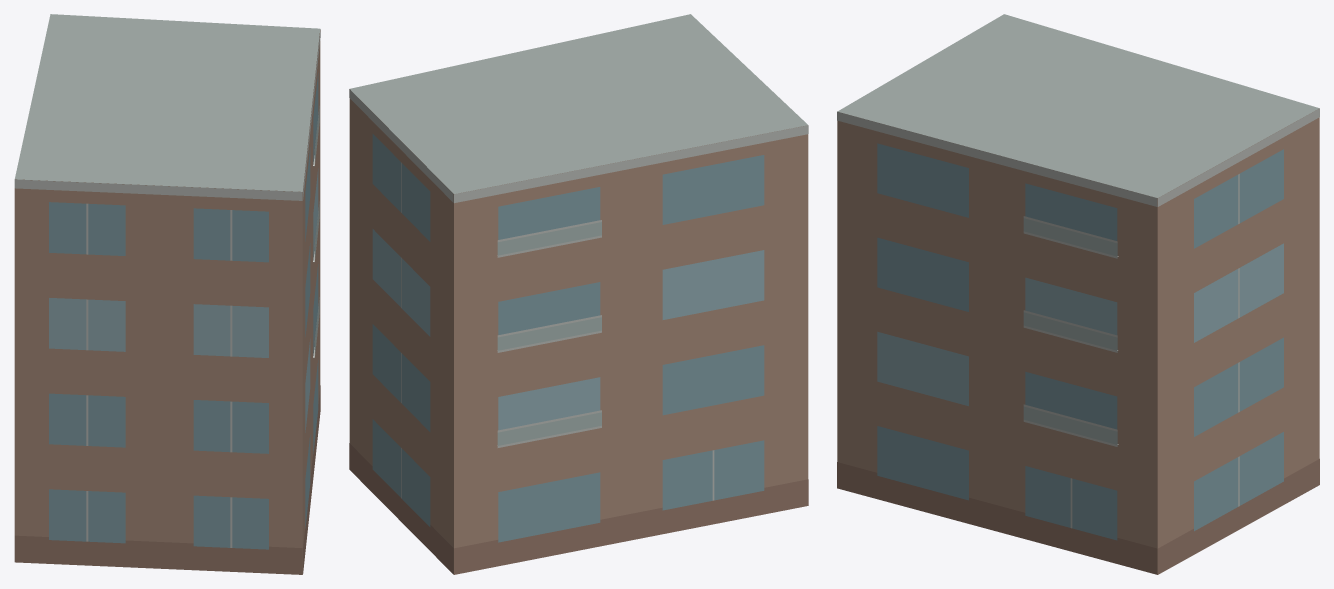
Rendered from survey-upis-32770904.glb.
3 renders of one model, left to right at view 1: azimuth 30°, elevation 25°; view 2: azimuth 150°, elevation 25°; view 3: azimuth 270°, elevation 25°, orthographic.
Parts seen in each view (by area): view 1: survey-upis-32770904.tmp; view 2: survey-upis-32770904.tmp; view 3: survey-upis-32770904.tmp.
Boxes of the visible parts, box(x1,y1,x2,y2) form: survey-upis-32770904.tmp: box(14, 14, 320, 574); survey-upis-32770904.tmp: box(349, 14, 808, 574); survey-upis-32770904.tmp: box(837, 14, 1319, 574).
Bounding box in the file's own units: 10.76 × 10.25 × 11.91.
